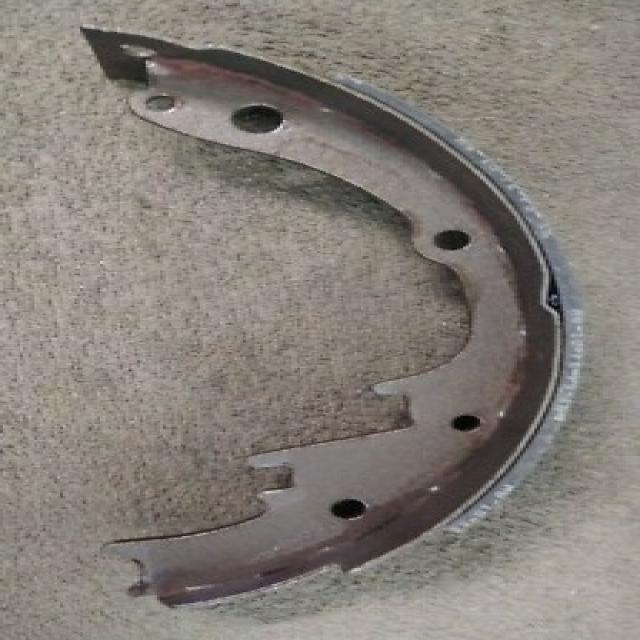brake_pad: (63, 19, 594, 624)
